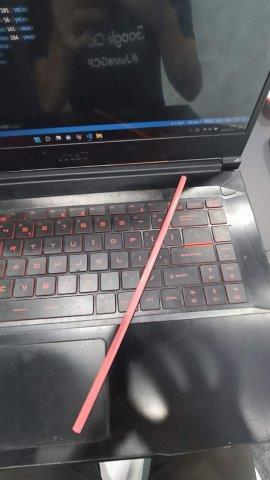sedotan: (74, 177, 186, 434)
